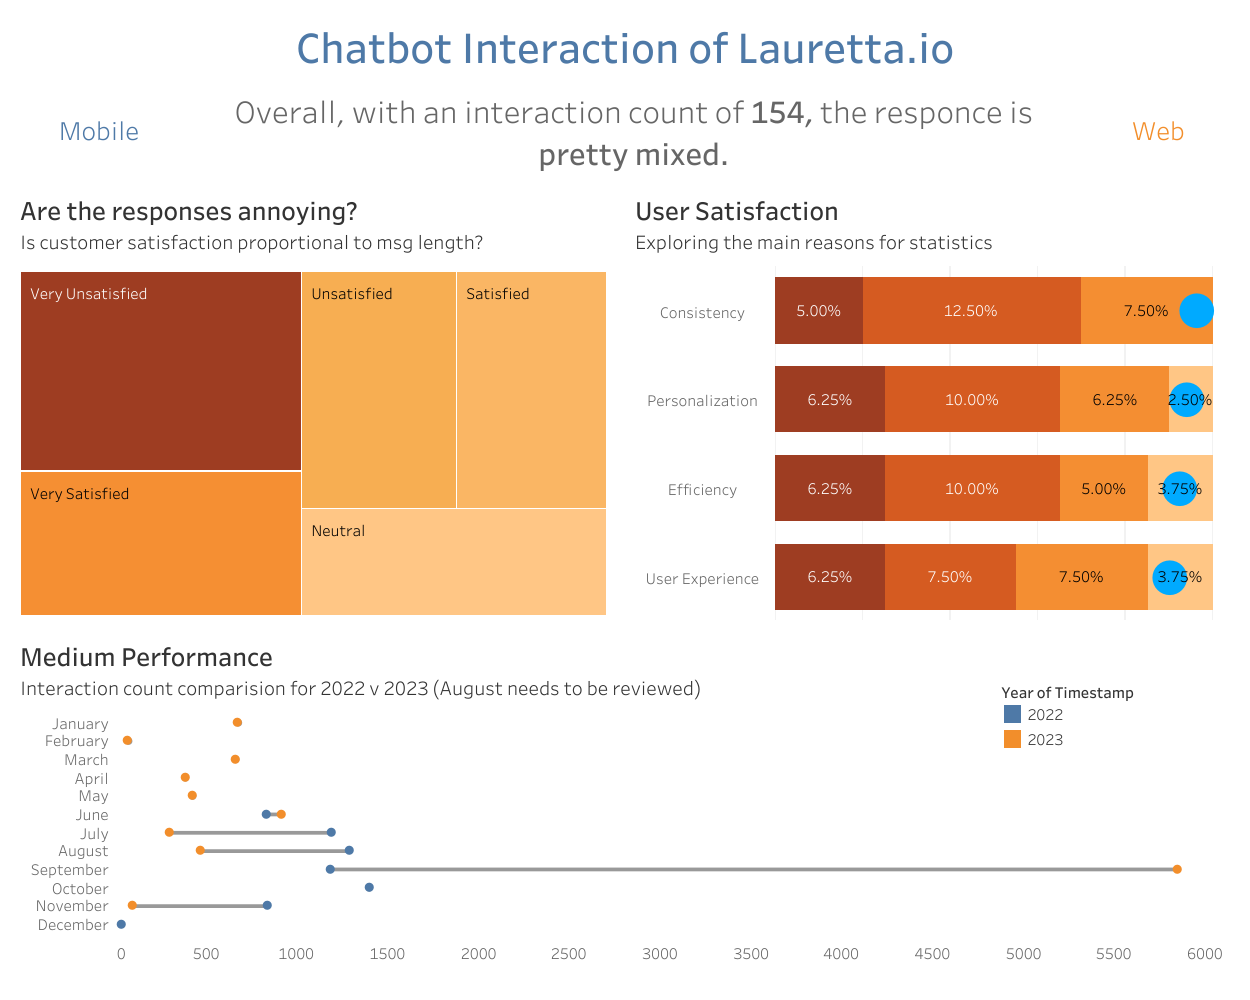

What the dashboard file says about the page in this screenshot:
{"tool":"tableau","page":{"name":"Dashboard 1","canvas":[1000,800],"ordinal":0},"visuals":[{"type":"title","box":[8,8,984,57]},{"type":"worksheet","title":"Sheet 6","mark":"Automatic","box":[8,65,144,79]},{"type":"text","box":[152,65,710,79]},{"type":"worksheet","title":"Sheet 10","mark":"Automatic","box":[862,65,130,79]},{"type":"worksheet","title":"Sheet 3","mark":"Automatic","box":[8,144,492,357]},{"type":"worksheet","title":"Sheet 9","mark":"Automatic","rows":["Pivot Field Names"],"cols":["Pivot Field Values","Pivot Field Values"],"box":[500,144,492,357]},{"type":"worksheet","title":"Sheet 5","mark":"Automatic","rows":["Timestamp"],"cols":["Interactions","Interactions"],"box":[8,501,984,291]},{"type":"legend","title":"Sheet 5","param":"[federated.1fuz9ll1k1m6bc10nvl6q1k38kns].[yr:Timestamp:ok]","box":[800,542,140,58]}]}

Visuals, with their boxes in screenshot pixels (x1, y1, x2, y2), scaled from the page's 1000x800 canvas onto the 1250x1000 screenshot:
title: box(10, 10, 1240, 81)
"Sheet 6" worksheet: box(10, 81, 190, 180)
text: box(190, 81, 1078, 180)
"Sheet 10" worksheet: box(1078, 81, 1240, 180)
"Sheet 3" worksheet: box(10, 180, 625, 626)
"Sheet 9" worksheet: box(625, 180, 1240, 626)
"Sheet 5" worksheet: box(10, 626, 1240, 990)
"Sheet 5" legend: box(1000, 678, 1175, 750)
